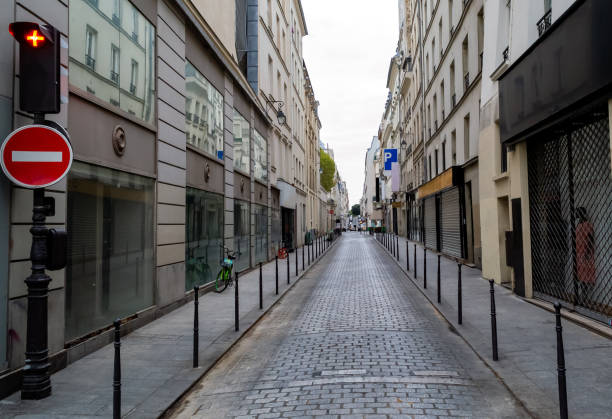Girilmez: (4, 121, 74, 189)
